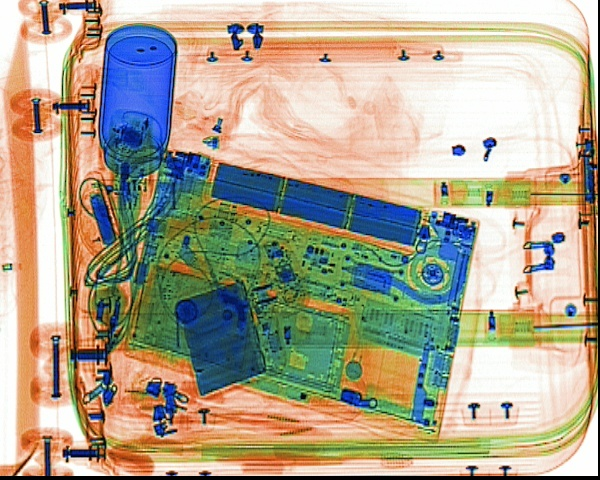powerbank: (169, 273, 287, 401)
